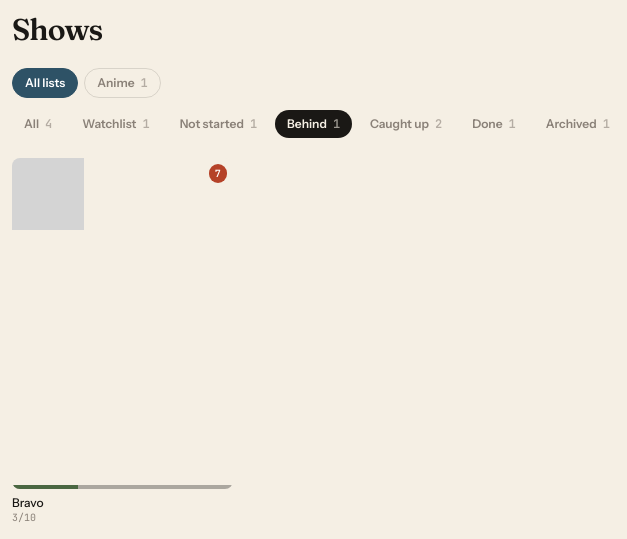
Test: ShowsLibrary › filters to not-started shows
This screenshot has width=627, height=539.
What coordinates should you click on to do the following:
click the button "Not started1"
I would click on:
 (218, 124)
Its box is [168,110,269,138].
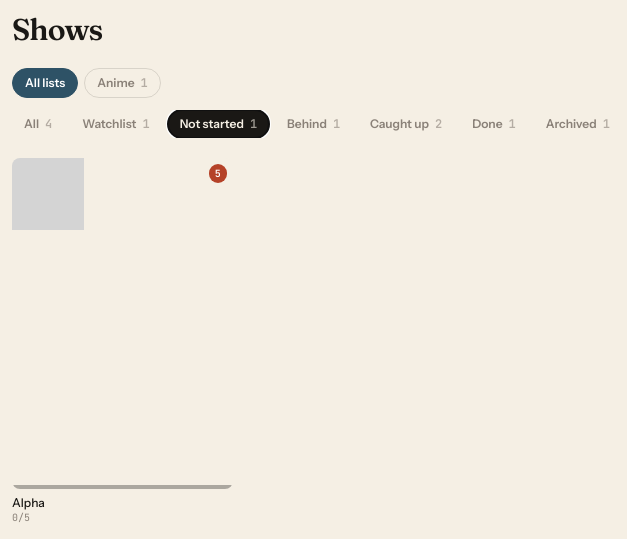
Check: the text "Alpha" is shown, box [12,495,45,510]
Check: the link "Bravo" is gone
